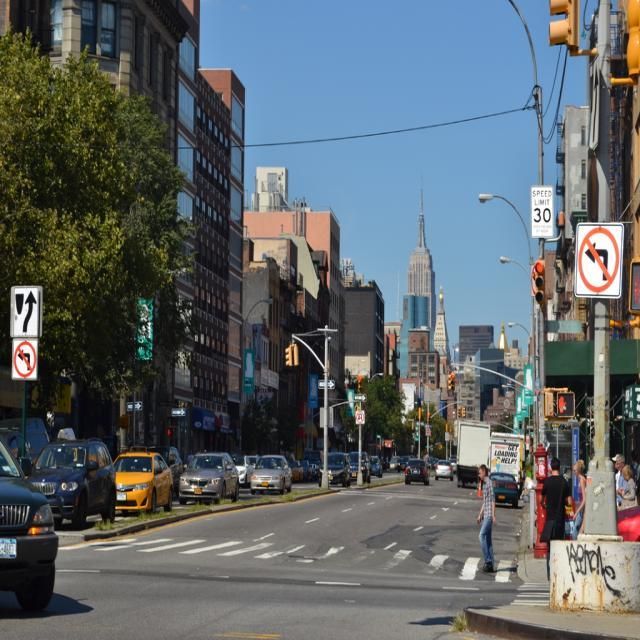off traffic light: (285, 344, 299, 366)
road_sign: (578, 223, 622, 292), (13, 338, 37, 378)
traffic light: (535, 261, 547, 304)
